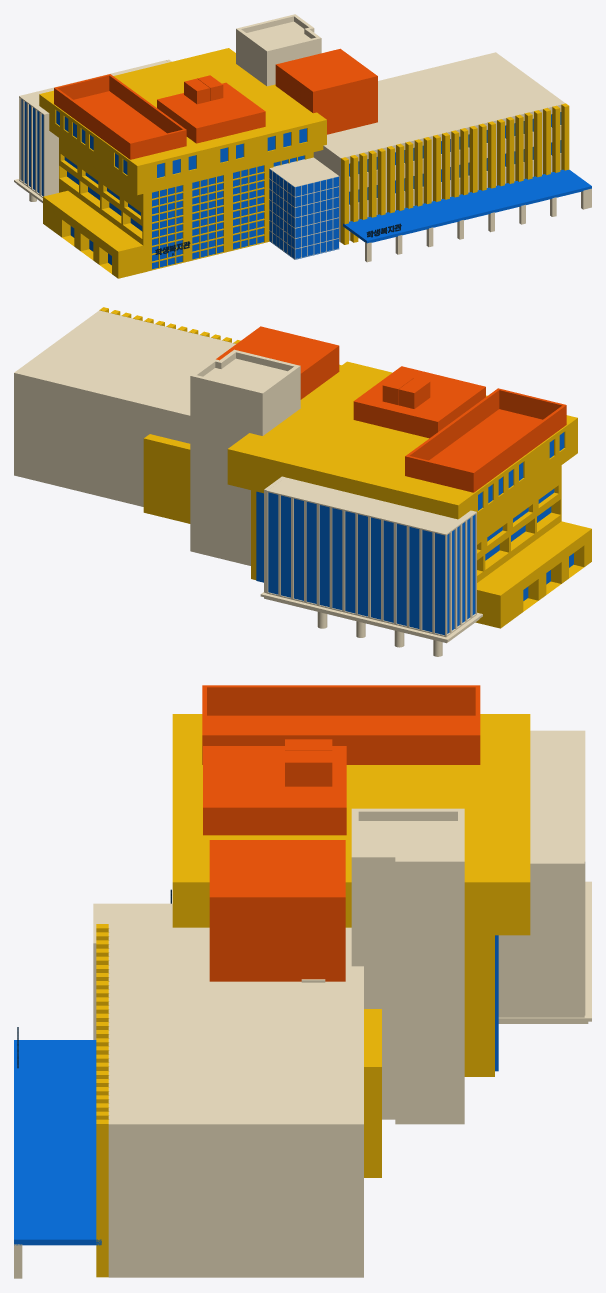
Rendered from 복지관.fbx.
The picture shows the model from 3 angles, top to bottom: view 1: azimuth 30°, elevation 25°; view 2: azimuth 150°, elevation 25°; view 3: azimuth 270°, elevation 25°; orthographic projection. The views are drawn at different scales.
Visible parts, largest first — view 1: Cube_127, Cube_23, Cube_24, Cube_21, 학생회관_3, Cube_131, Cube_22, Cube_133, Cube_27, Cube_128, 학생회관_7, 학생회관_4 (+8 smaller); view 2: Cube_23, Cube_24, Cube_55, 학생회관_7, Cube_25, 학생회관_3, Cube_128, Cube_21, 학생회관_4, 학생회관_11, Cube_22, Cube_131 (+4 smaller); view 3: Cube_23, 학생회관_7, Cube_24, Cube_22, 학생회관_3, Cube_133, 학생회관_1, 학생회관_4, Cube_25, Cube_127, Cube_21, 학생회관_11 (+2 smaller).
Boxes of the visible parts, x1,y1,x2,y2 form: Cube_127: (341, 103, 569, 244); Cube_23: (313, 52, 565, 242); Cube_24: (39, 48, 326, 195); Cube_21: (59, 138, 313, 272); 학생회관_3: (54, 74, 186, 159); Cube_131: (67, 155, 304, 269); Cube_22: (275, 48, 377, 134); Cube_133: (343, 169, 591, 243); Cube_27: (269, 169, 338, 259); Cube_128: (43, 190, 146, 278); 학생회관_7: (236, 14, 321, 86); 학생회관_4: (157, 82, 265, 143); Cube_23: (14, 310, 235, 506); Cube_24: (227, 361, 577, 526); Cube_55: (268, 492, 475, 635); 학생회관_7: (190, 349, 300, 565); Cube_25: (260, 477, 482, 643); 학생회관_3: (405, 388, 566, 492); Cube_128: (475, 521, 591, 628); Cube_21: (251, 465, 561, 582); 학생회관_4: (353, 366, 485, 438); 학생회관_11: (143, 434, 190, 523); Cube_22: (216, 326, 339, 399); Cube_131: (256, 491, 551, 582); Cube_23: (108, 924, 363, 1277); 학생회관_7: (351, 808, 464, 1124); Cube_24: (172, 714, 530, 935); Cube_22: (209, 840, 345, 981); 학생회관_3: (202, 685, 480, 764); Cube_133: (14, 1040, 101, 1245); 학생회관_1: (498, 861, 584, 1017); 학생회관_4: (203, 746, 346, 835); Cube_25: (498, 730, 591, 1023); Cube_127: (96, 924, 109, 1277); Cube_21: (464, 935, 494, 1076); 학생회관_11: (364, 1009, 381, 1177).
Size of the model in its own units: 1317 by 446 by 850.
